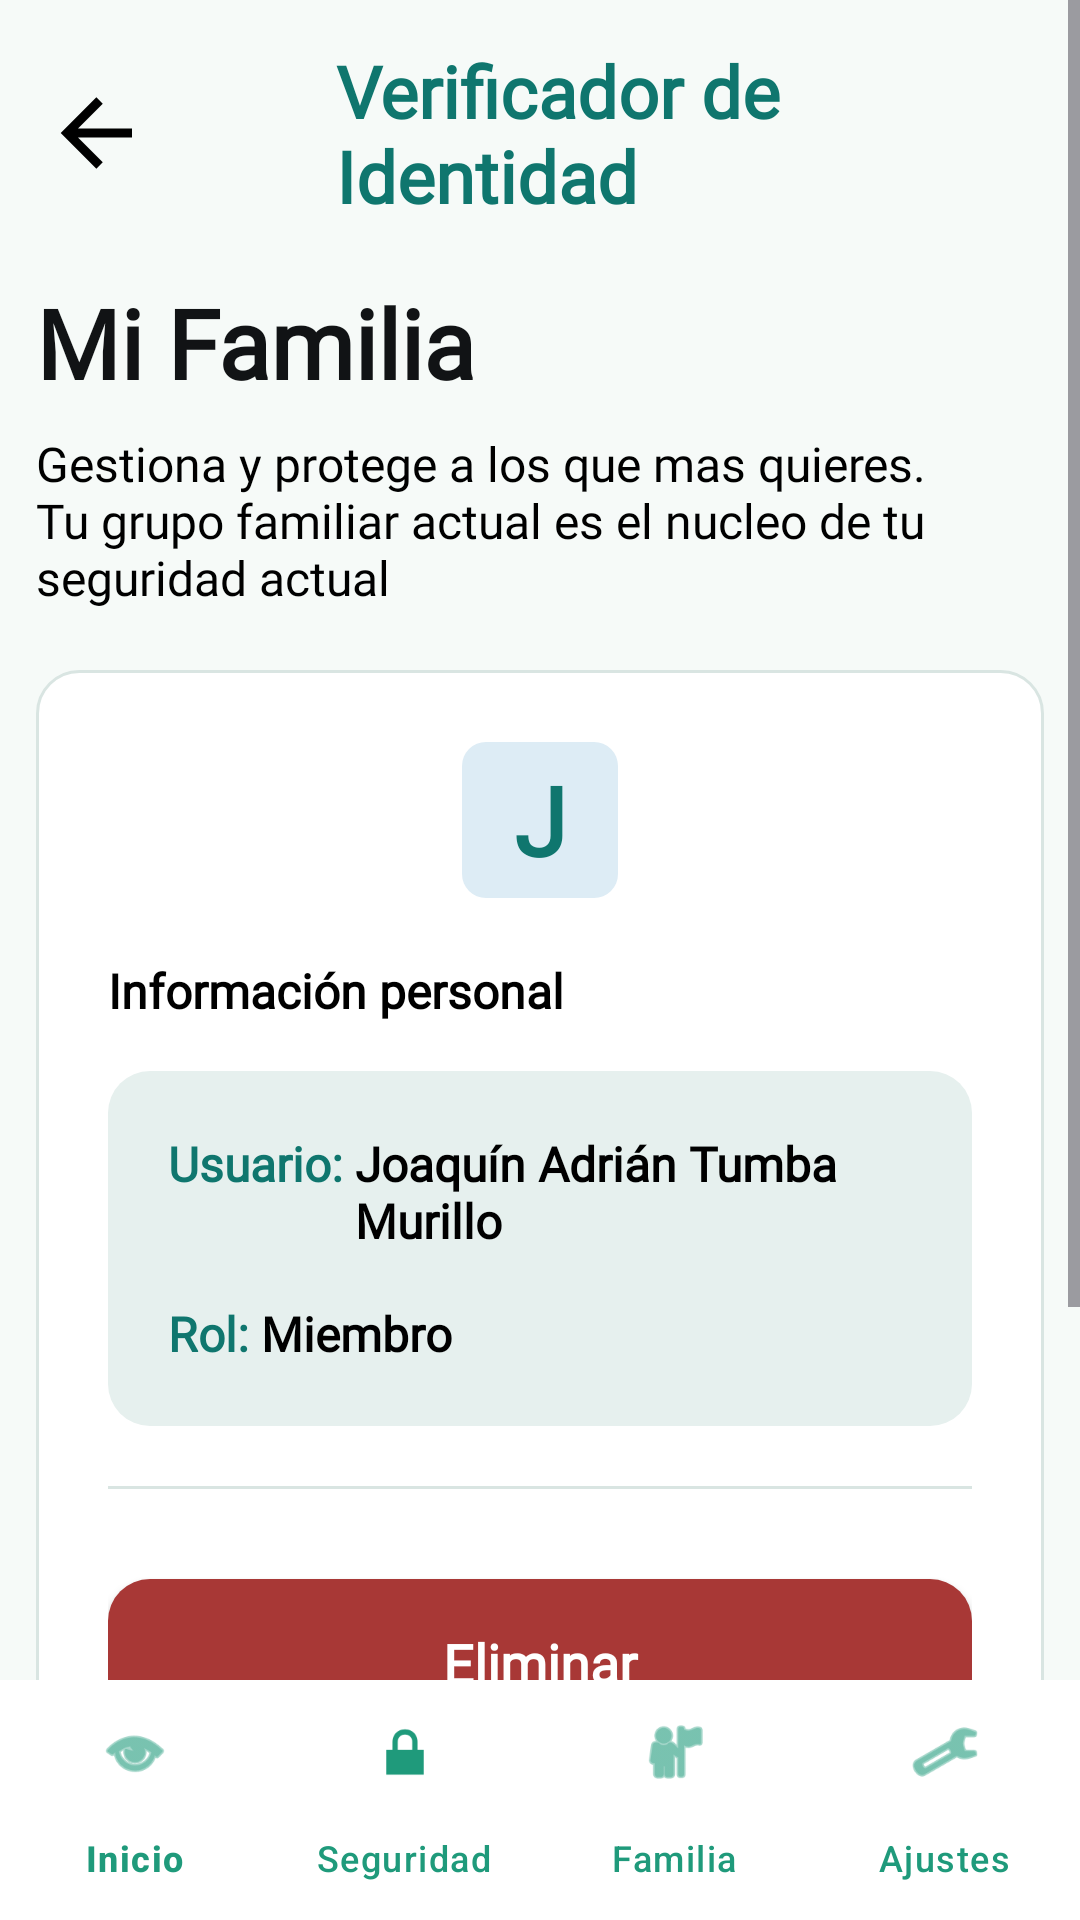

Screen size 1080w x 1920h. Icon name, then its center in pixels as (x,y):
Volver: (96,133)
